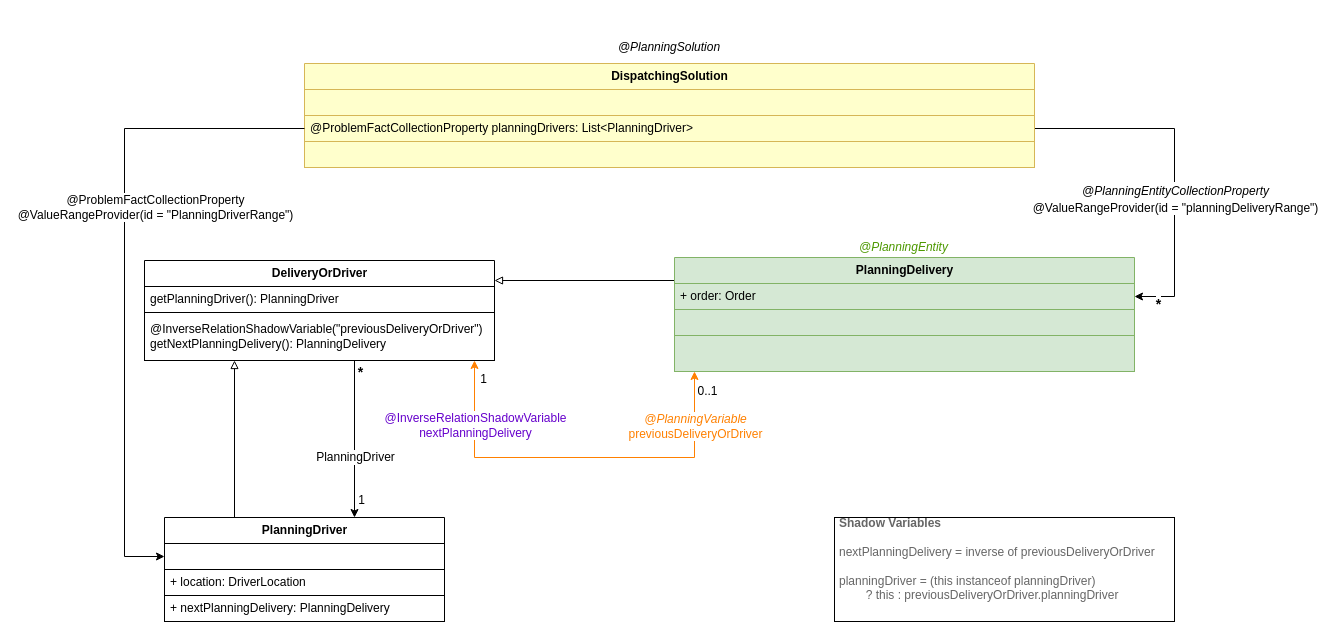
The diagram is 1335 pixels wide and 639 high, and some of its shapes have lost their labels. The shapes that lost their labels are listed below. From the top down, each one's centre as x and y in pixels, then its label:
the point at 669,102: + id: UUID
the point at 669,154: @PlanningEntityCollectionProperty planningDeliveries: List<PlanningDelivery>
the point at 904,322: @PlanningVariable previous DeliveryOrDriver : DeliveryOrDriver
the point at 904,353: @AnchorShadowVariable( previousDeliveryOrOrder) planningDriver : PlanningDriver
the point at 304,556: + driverId: String
